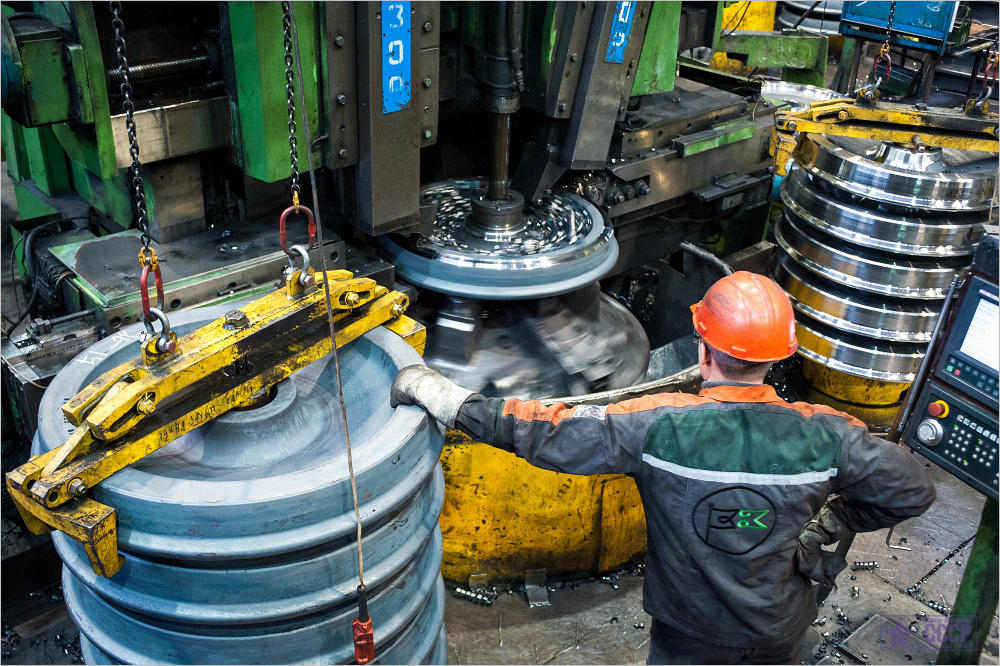person: (390, 271, 939, 666)
